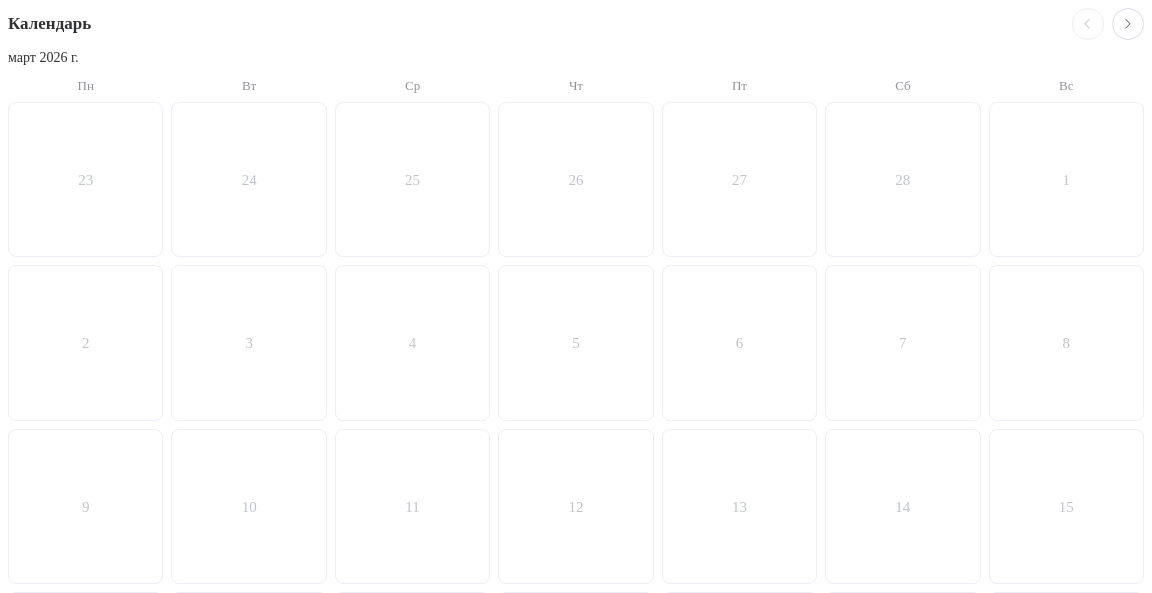
MonthCalendar › locks the months outside the booking window
This screenshot has width=1152, height=593.
Click the 2nd button with class "nav-button" at (1128, 24), box x1=1112 y1=8 x2=1144 y2=40
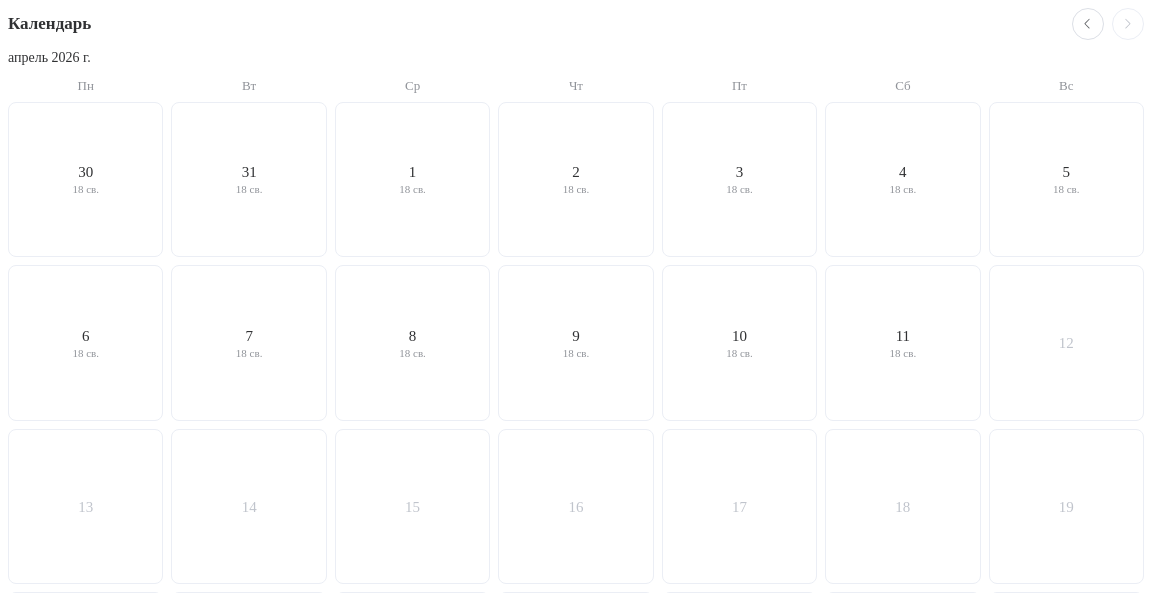
Expected: the text with class "calendar-month" reads "апрель 2026 г.", x1=8 y1=50 x2=91 y2=65
